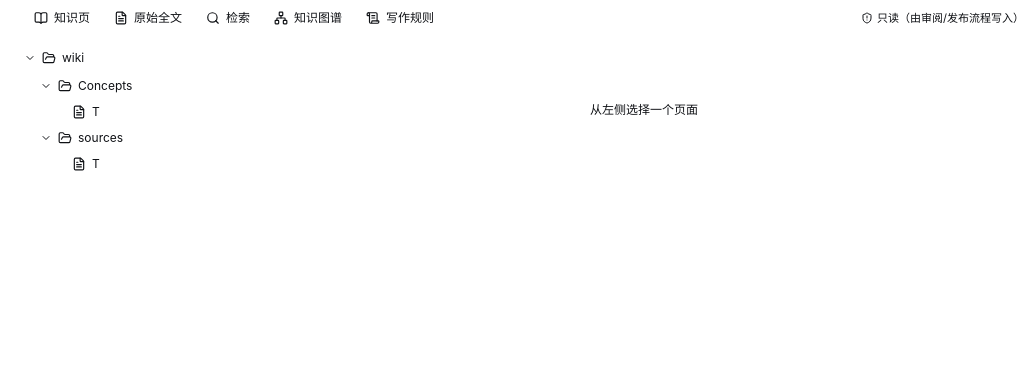
Test case: KbWikiTab 知识检索（issue 14 统一检索） › 检索成功：结果列表渲染 kind/标题/stale 标记与覆盖状态
Expected: the element with test id "wiki-group-Concepts" is shown, [12,72,252,124]
Click the button with test id "kb-wiki-search-tab".
click(228, 18)  # box [196,6,260,30]
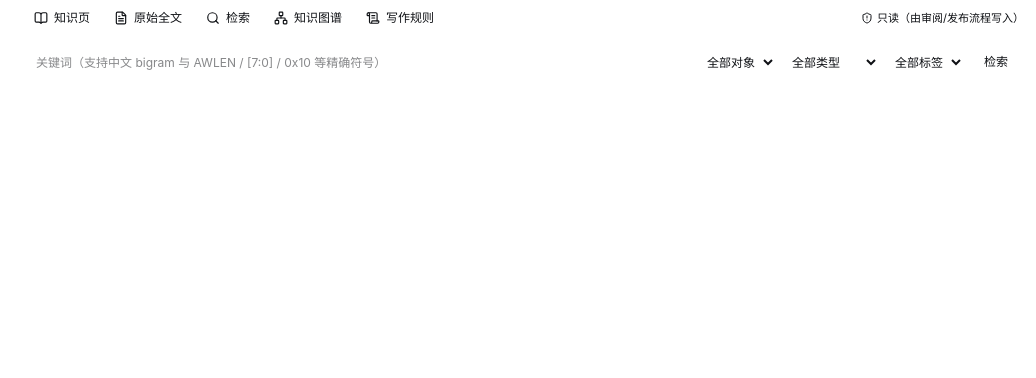
Expected: the element with test id "kb-wiki-search" is shown, [28,48,1020,76]
Type "DDS" into the field with test id "kb-wiki-search-input".
click(360, 62); type("DDS")  # box [28,48,691,76]
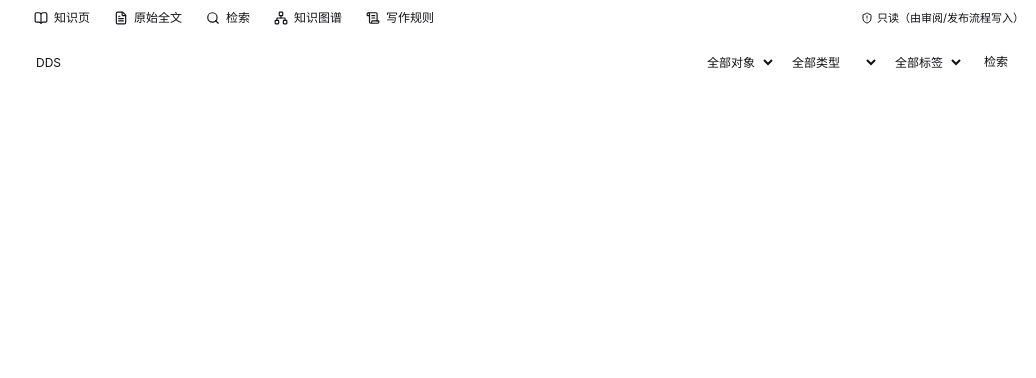
Click the button with test id "kb-wiki-search-run".
click(996, 62)  # box [972,48,1020,76]
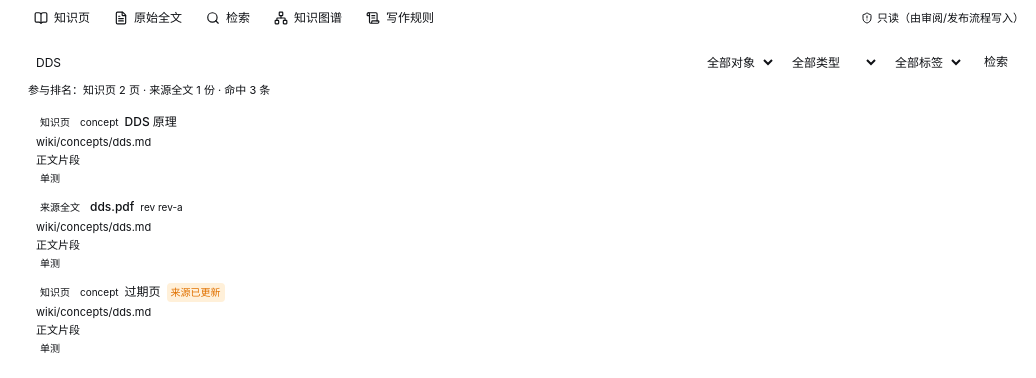
Expected: the element with test id "kb-wiki-search-results" is shown
Expected: the button with test id "kb-wiki-search-hit-wiki-concepts/dds" is shown, [28,106,1020,192]
Expected: the button with test id "kb-wiki-search-hit-parsed-src-1" is shown, [28,192,1020,276]
